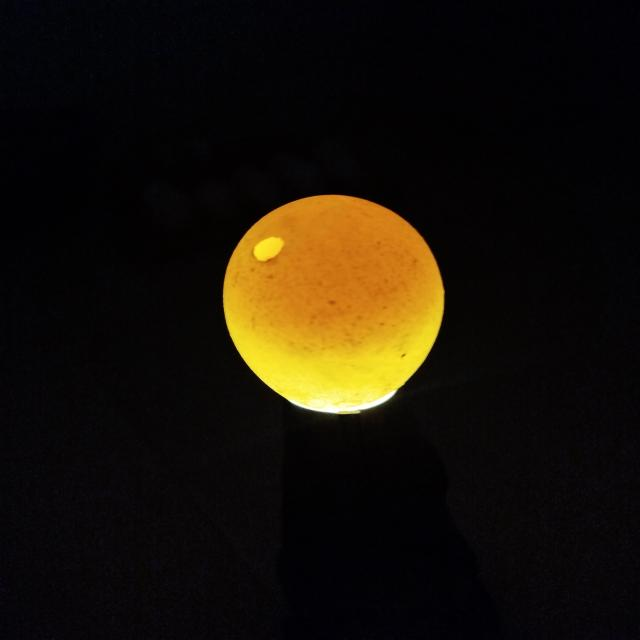Rachadura: (253, 236, 284, 261)
